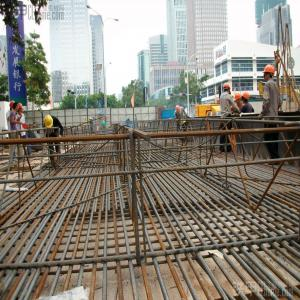none: (14, 102, 20, 113)
red: (264, 65, 275, 82), (242, 91, 250, 105), (224, 83, 231, 95), (235, 93, 241, 105), (10, 101, 15, 112), (19, 103, 24, 114), (176, 106, 182, 115)
yellow: (45, 115, 55, 131)
